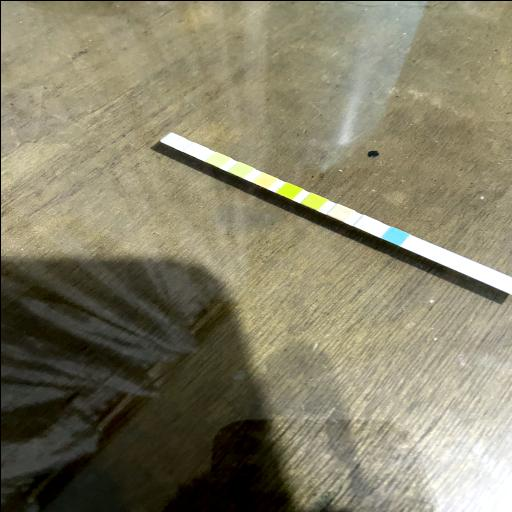Bilirubin: (360, 219, 374, 228)
Blood: (280, 186, 294, 194)
Glucose: (387, 231, 402, 240)
Ketone: (332, 208, 348, 216)
Leukocytes: (166, 134, 178, 144)
Nitrite: (188, 145, 200, 153)
Protein: (234, 165, 246, 173)
SpGravity: (306, 196, 320, 204)
Urobilinogen: (210, 154, 224, 162)
pH: (258, 176, 270, 184)
strip: (160, 132, 512, 294)
